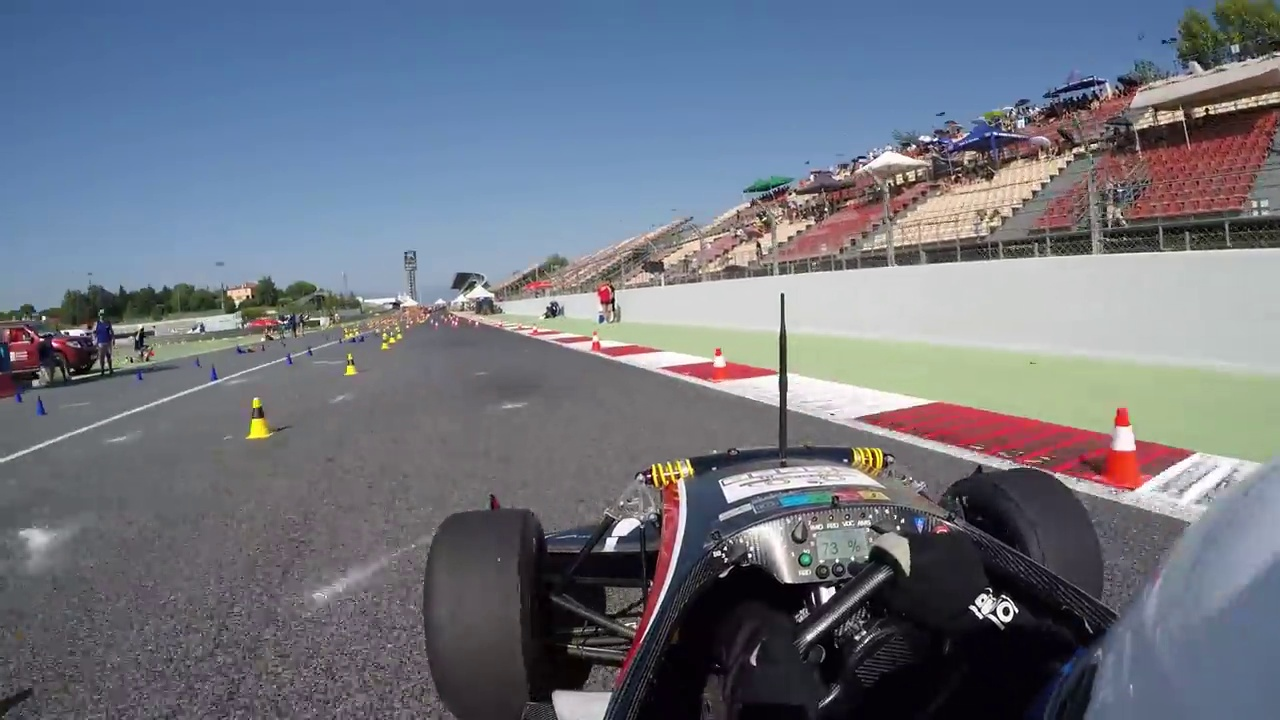Cone: (1098, 406, 1150, 484), (245, 393, 277, 441)
